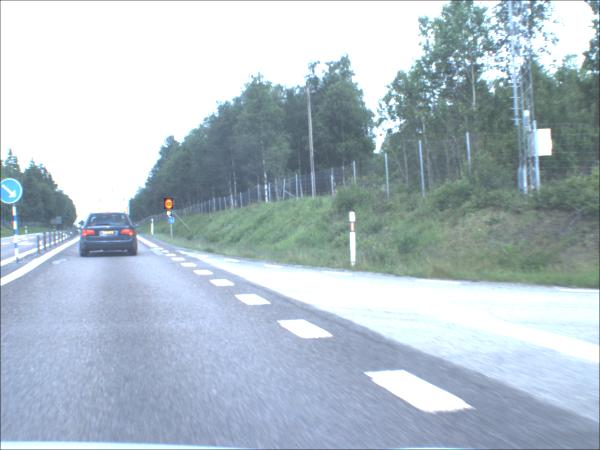100_SIGN: (165, 200, 175, 212)
PASS_RIGHT_SIDE: (1, 178, 25, 207)
PRIORITY_ROAD: (169, 213, 175, 219)
